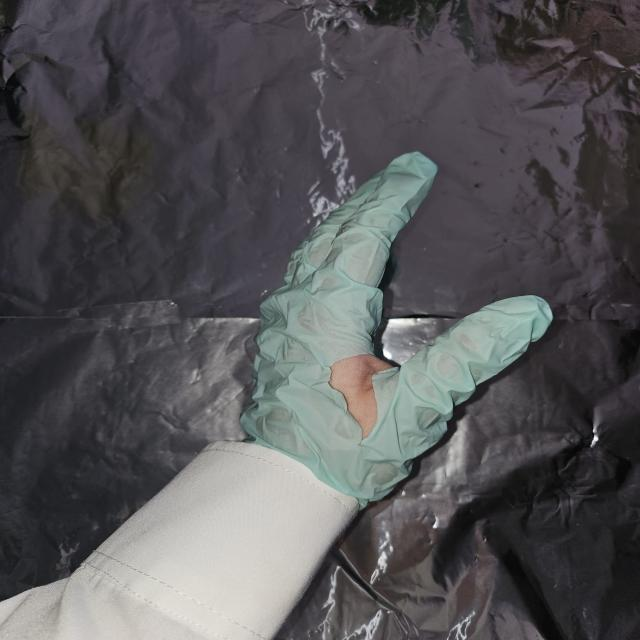gloves_damaged: (236, 150, 554, 502)
